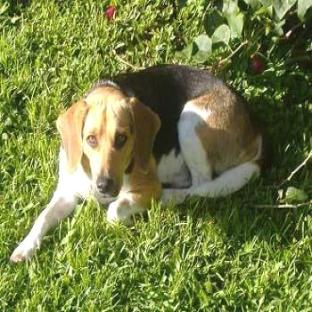Animal: (11, 65, 264, 261)
